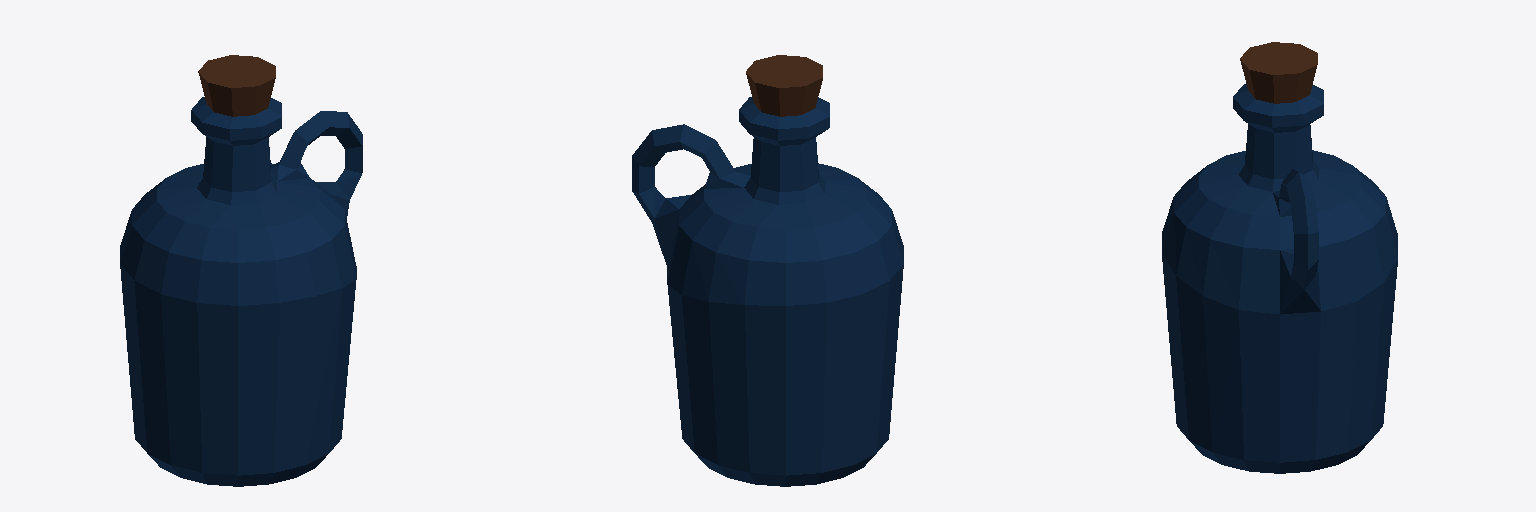
File: bottle.obj
3 views of the same model, side by side, from view 1: azimuth 30°, elevation 25°; view 2: azimuth 150°, elevation 25°; view 3: azimuth 270°, elevation 25° (orthographic).
Visible parts, largest first — view 1: obj_bottle_A_Mesh.006; view 2: obj_bottle_A_Mesh.006; view 3: obj_bottle_A_Mesh.006.
Boxes of the visible parts, x1=… form: obj_bottle_A_Mesh.006: x1=120, y1=55, x2=362, y2=486; obj_bottle_A_Mesh.006: x1=632, y1=55, x2=903, y2=486; obj_bottle_A_Mesh.006: x1=1162, y1=42, x2=1397, y2=473.
Size of the model in its own units: 0.7325 by 1.09 by 0.6165.